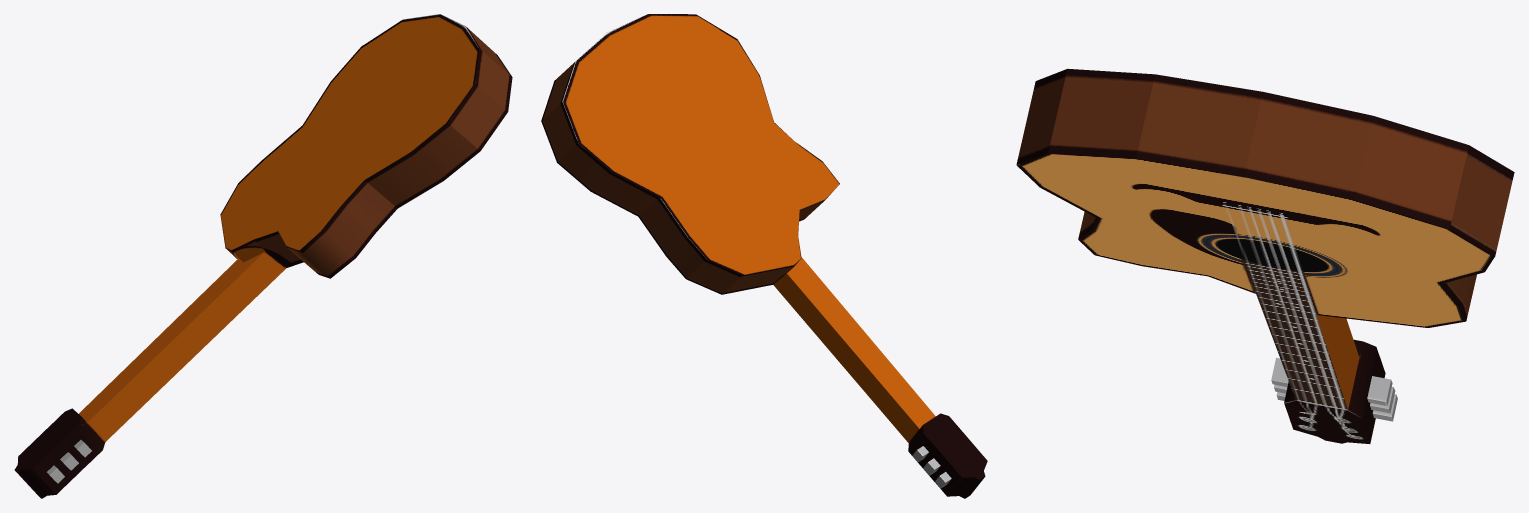
File: Guitarra3_000010.obj
3 renders of one model, left to right at view 1: azimuth 30°, elevation 25°; view 2: azimuth 150°, elevation 25°; view 3: azimuth 270°, elevation 25°, orthographic. The views are drawn at different scales.
Visible parts, largest first — view 1: Guitarra_2:pPlane4; view 2: Guitarra_2:pPlane4; view 3: Guitarra_2:pPlane4.
Boxes of the visible parts, box(x1,y1,x2,y2) form: Guitarra_2:pPlane4: box(14, 14, 512, 498); Guitarra_2:pPlane4: box(541, 14, 987, 498); Guitarra_2:pPlane4: box(1016, 68, 1514, 443).
Size of the model in its own units: 10.47 by 8.47 by 5.28.
